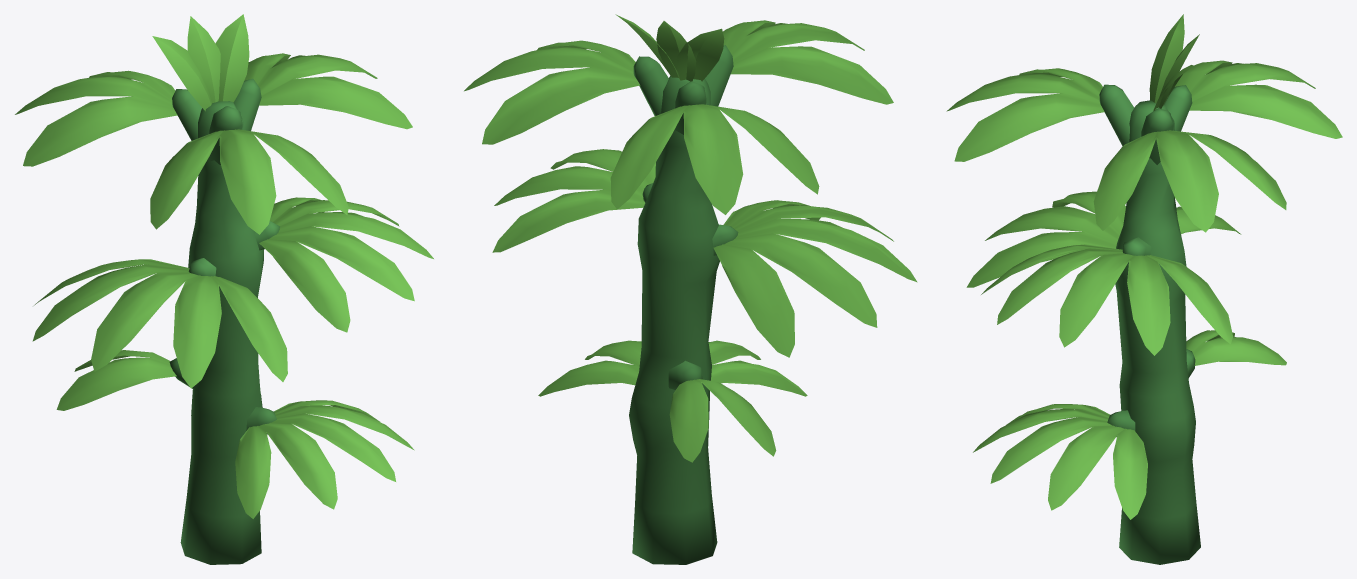
Rendered from Hemp_Remake_Fan.glb.
3 renders of one model, left to right at view 1: azimuth 30°, elevation 25°; view 2: azimuth 150°, elevation 25°; view 3: azimuth 270°, elevation 25°, orthographic. The views are drawn at different scales.
Parts seen in each view (by area): view 1: Hemp_Remake; view 2: Hemp_Remake; view 3: Hemp_Remake.
Part boxes in pixels (<box>): Hemp_Remake: <box>15,14,433,564</box>; Hemp_Remake: <box>464,14,917,564</box>; Hemp_Remake: <box>946,14,1342,564</box>.
Size of the model in its own units: 2.33 by 3.15 by 2.22.
